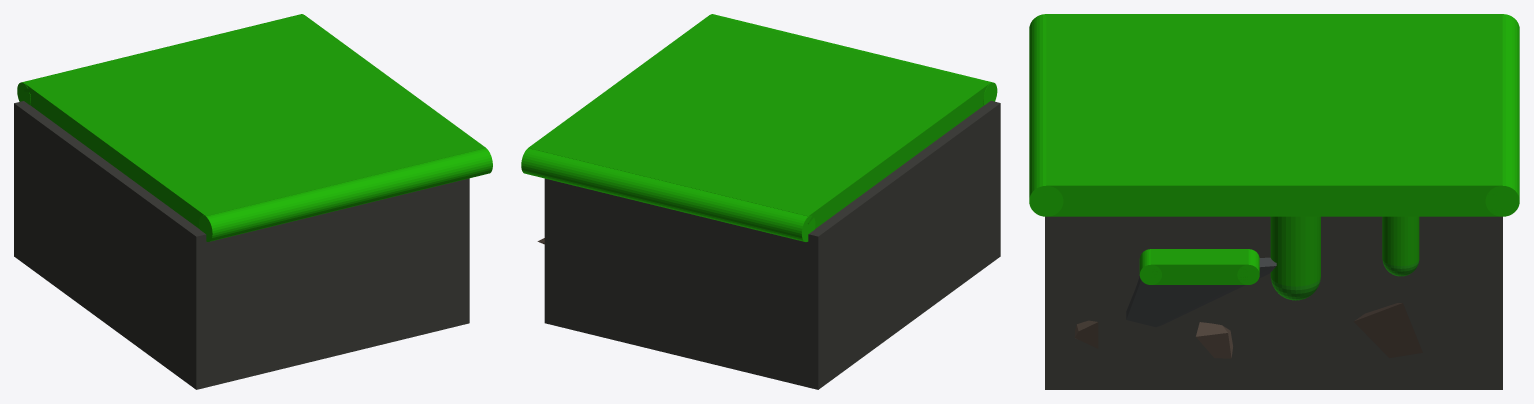
Rendered from 2.5D地形 背景01.fbx.
The picture shows the model from 3 angles, left to right: view 1: azimuth 30°, elevation 25°; view 2: azimuth 150°, elevation 25°; view 3: azimuth 270°, elevation 25°; orthographic projection. The views are drawn at different scales.
Parts seen in each view (by area): view 1: Cube, 円柱.001; view 2: Cube, 円柱.001; view 3: 円柱.001, Cube, 円柱.002, 球, 立方体.005, 立方体.002, 球.002, 立方体.001, 立方体.003.
Boxes of the visible parts, x1,y1,x2,y2 form: Cube: (14,101,469,389); 円柱.001: (17,14,492,241); Cube: (544,100,1000,389); 円柱.001: (521,14,997,241); 円柱.001: (1029,14,1519,216); Cube: (1045,216,1502,389); 円柱.002: (1139,249,1259,284); 球: (1270,216,1320,300); 立方体.005: (1126,257,1276,326); 立方体.002: (1353,303,1422,358); 球.002: (1382,216,1419,276); 立方体.001: (1196,322,1232,358); 立方体.003: (1074,320,1098,348).
Bounding box in the file's own units: 1060 × 554 × 1147.
